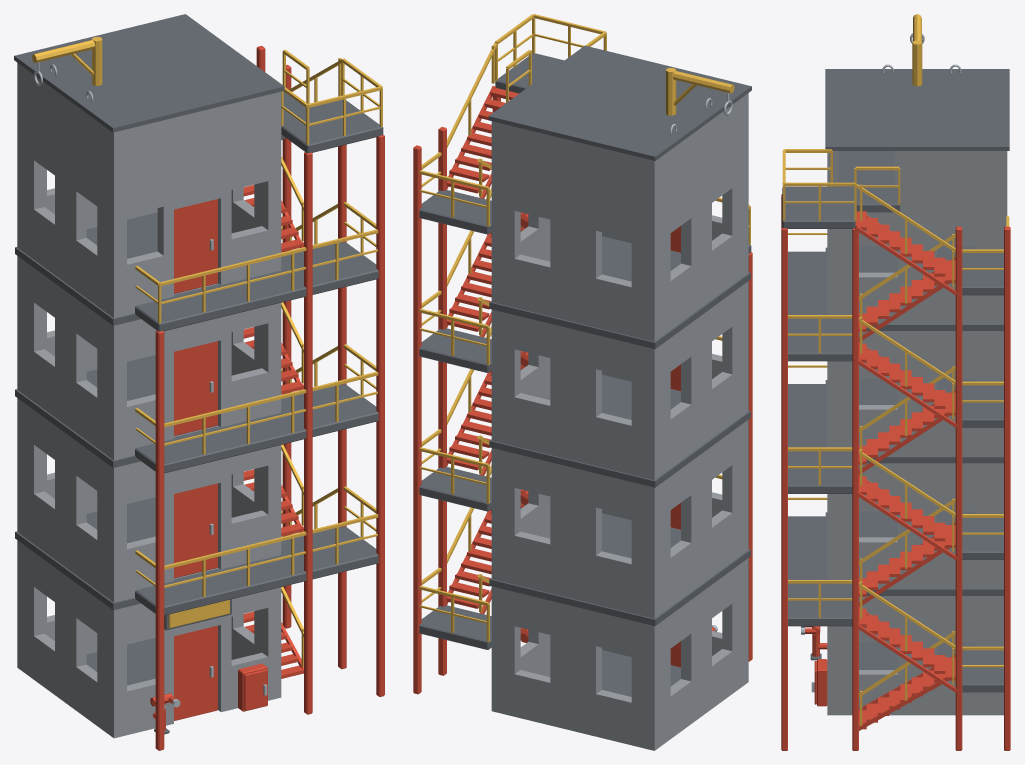
File: fire-training-tower.glb
3 views of the same model, side by side, from view 1: azimuth 30°, elevation 25°; view 2: azimuth 150°, elevation 25°; view 3: azimuth 270°, elevation 25° (orthographic). The views are drawn at different scales.
Visible parts, largest first — view 1: Walls, Balconies, Slabs, Stair_Frame, Railings, Door_Ground, Door_Floor4, Door_Floor3, Door_Floor2, Stair_Steps, Anchor, Sign (+1 smaller); view 2: Walls, Slabs, Stair_Frame, Balconies, Railings, Stair_Steps, Anchor; view 3: Walls, Balconies, Slabs, Stair_Frame, Stair_Steps, Railings, Anchor, Cabinet, Standpipe.
Boxes of the visible parts, bbox=[...] form: Walls: bbox=[17, 63, 281, 738]; Balconies: bbox=[135, 91, 383, 615]; Slabs: bbox=[14, 14, 284, 685]; Stair_Frame: bbox=[155, 45, 384, 750]; Railings: bbox=[135, 49, 382, 667]; Door_Ground: bbox=[174, 625, 217, 720]; Door_Floor4: bbox=[174, 199, 217, 293]; Door_Floor3: bbox=[174, 341, 217, 435]; Door_Floor2: bbox=[174, 483, 217, 578]; Stair_Steps: bbox=[243, 185, 303, 678]; Anchor: bbox=[32, 37, 102, 103]; Sign: bbox=[164, 599, 231, 630]; Walls: bbox=[491, 93, 748, 750]; Slabs: bbox=[488, 45, 751, 696]; Stair_Frame: bbox=[413, 86, 752, 694]; Balconies: bbox=[419, 53, 751, 649]; Railings: bbox=[419, 14, 750, 641]; Stair_Steps: bbox=[447, 88, 528, 642]; Anchor: bbox=[666, 68, 734, 135]; Walls: bbox=[827, 151, 1007, 715]; Balconies: bbox=[782, 186, 1003, 692]; Slabs: bbox=[825, 69, 1009, 669]; Stair_Frame: bbox=[781, 194, 1010, 750]; Stair_Steps: bbox=[855, 211, 955, 729]; Railings: bbox=[782, 149, 1009, 726]; Anchor: bbox=[882, 14, 961, 86]; Cabinet: bbox=[817, 659, 827, 706]; Standpipe: bbox=[801, 626, 827, 660].
Size of the model in its own units: 26.65 by 60 by 20.4.
